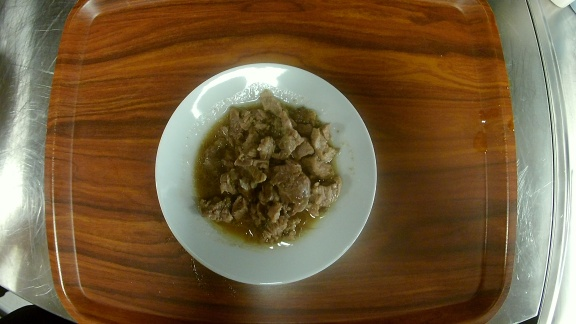etsote: (153, 62, 379, 286)
